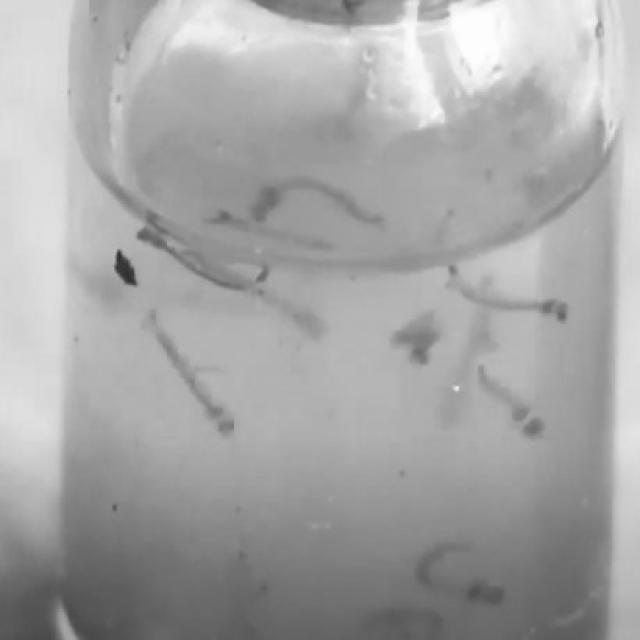larvas: (139, 224, 271, 290), (155, 323, 233, 430), (250, 165, 378, 227), (453, 266, 570, 321), (421, 546, 508, 606), (219, 208, 329, 248), (486, 367, 546, 434), (362, 609, 450, 639), (398, 310, 437, 362)
